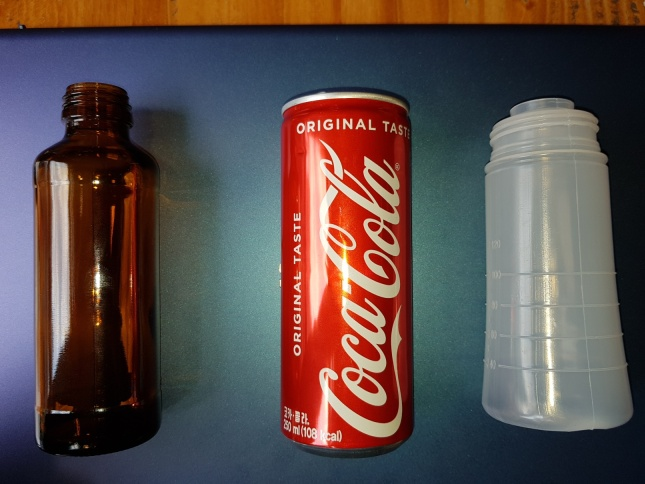Can: (269, 83, 418, 460)
Glass: (27, 79, 165, 459)
Plastic: (476, 94, 635, 435)
